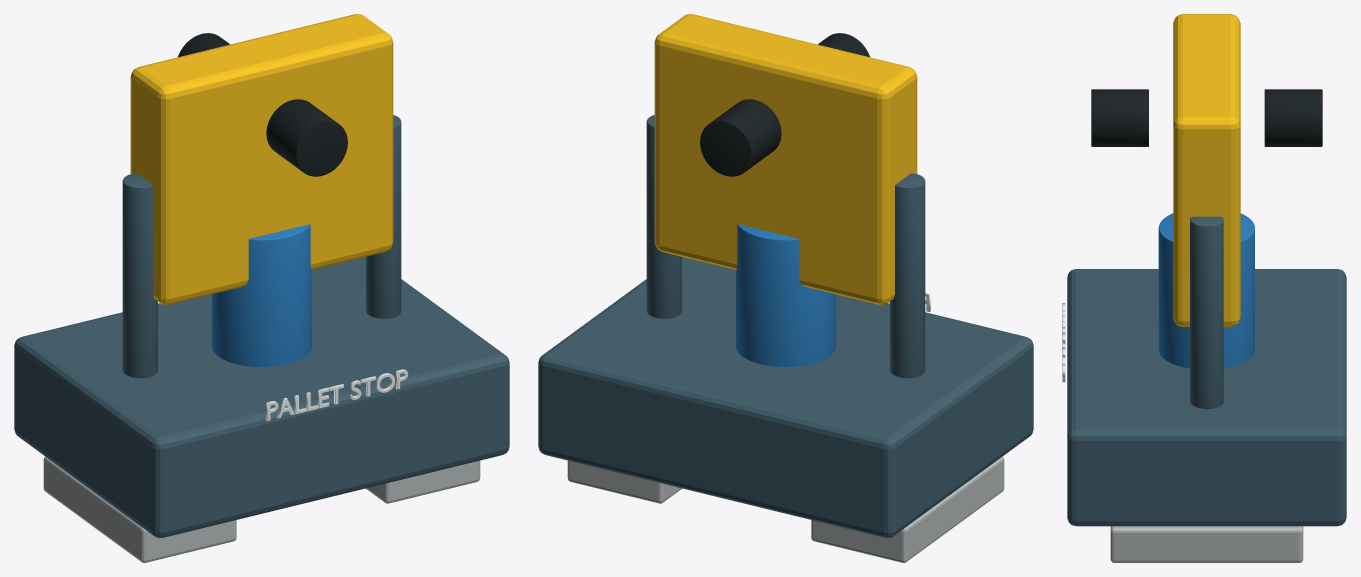
The model's file is pneumatic_pallet_stop.glb.
The picture shows the model from 3 angles, left to right: view 1: azimuth 30°, elevation 25°; view 2: azimuth 150°, elevation 25°; view 3: azimuth 270°, elevation 25°; orthographic projection. The views are drawn at different scales.
Visible parts, largest first — view 1: MOUNT_FRAME, KIN_STOP_BLADE, PNEUMATIC_CYLINDER, GUIDE_-0.28, FOOT_-0.28, BUMPER_-0.18, GUIDE_0.28, FOOT_0.28, STOP_LABEL, BUMPER_0.18; view 2: MOUNT_FRAME, KIN_STOP_BLADE, PNEUMATIC_CYLINDER, GUIDE_-0.28, FOOT_-0.28, BUMPER_0.18, GUIDE_0.28, FOOT_0.28, BUMPER_-0.18; view 3: MOUNT_FRAME, KIN_STOP_BLADE, FOOT_0.28, GUIDE_0.28, PNEUMATIC_CYLINDER, BUMPER_0.18, BUMPER_-0.18.
Part boxes in pixels (x1=…): MOUNT_FRAME: x1=14, y1=257, x2=509, y2=537; KIN_STOP_BLADE: x1=130, y1=14, x2=393, y2=304; PNEUMATIC_CYLINDER: x1=212, y1=224, x2=311, y2=366; GUIDE_-0.28: x1=122, y1=173, x2=157, y2=378; FOOT_-0.28: x1=43, y1=456, x2=236, y2=562; BUMPER_-0.18: x1=266, y1=99, x2=347, y2=176; GUIDE_0.28: x1=366, y1=115, x2=401, y2=318; FOOT_0.28: x1=366, y1=460, x2=480, y2=503; STOP_LABEL: x1=266, y1=369, x2=408, y2=421; BUMPER_0.18: x1=178, y1=33, x2=229, y2=57; MOUNT_FRAME: x1=538, y1=257, x2=1033, y2=537; KIN_STOP_BLADE: x1=654, y1=14, x2=917, y2=304; PNEUMATIC_CYLINDER: x1=736, y1=224, x2=835, y2=366; GUIDE_-0.28: x1=890, y1=173, x2=925, y2=378; FOOT_-0.28: x1=811, y1=456, x2=1004, y2=562; BUMPER_0.18: x1=700, y1=99, x2=781, y2=176; GUIDE_0.28: x1=646, y1=115, x2=681, y2=318; FOOT_0.28: x1=567, y1=460, x2=681, y2=503; BUMPER_-0.18: x1=818, y1=33, x2=869, y2=57; MOUNT_FRAME: x1=1067, y1=269, x2=1346, y2=526; KIN_STOP_BLADE: x1=1173, y1=14, x2=1240, y2=326; FOOT_0.28: x1=1110, y1=526, x2=1303, y2=562; GUIDE_0.28: x1=1190, y1=216, x2=1223, y2=408; PNEUMATIC_CYLINDER: x1=1158, y1=213, x2=1254, y2=368; BUMPER_0.18: x1=1264, y1=89, x2=1322, y2=146; BUMPER_-0.18: x1=1091, y1=89, x2=1148, y2=146.
Size of the model in its own units: 0.82 by 0.96 by 0.59.
